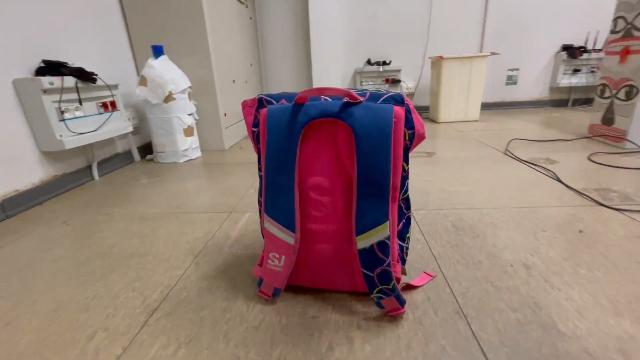Backpack: (237, 81, 441, 325)
